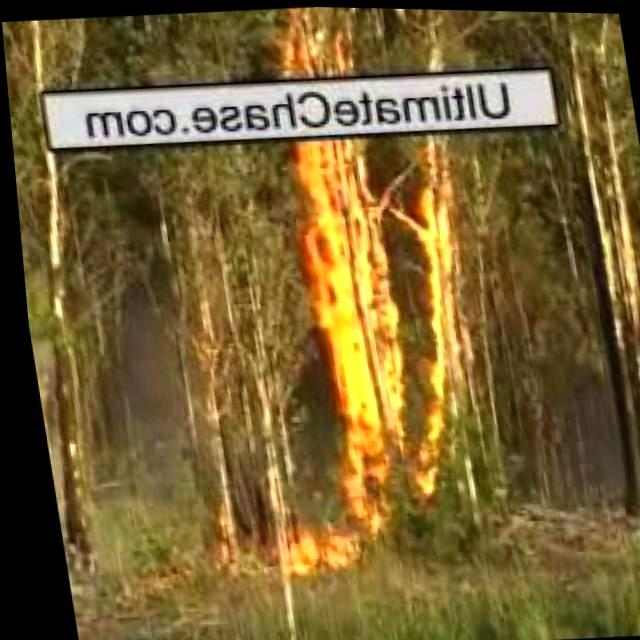fire: (267, 136, 489, 520), (552, 106, 640, 400), (265, 4, 359, 78), (260, 524, 368, 584)
